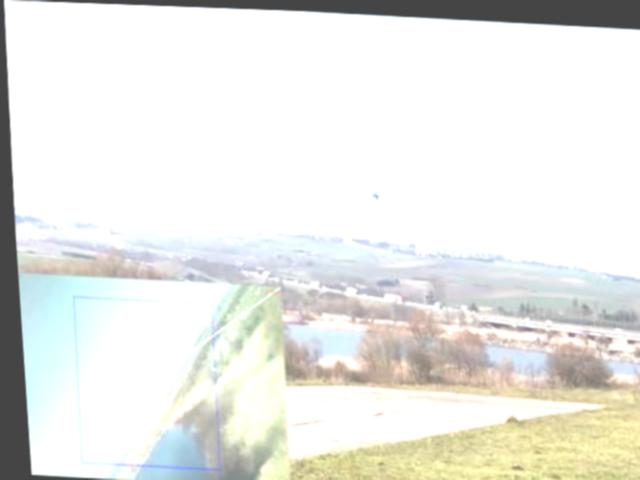uav: (366, 183, 381, 201)
